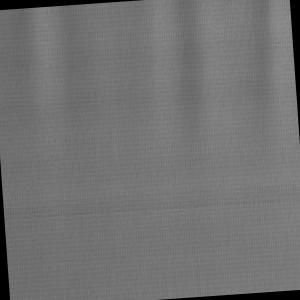Wrinkle: (1, 1, 300, 172)
